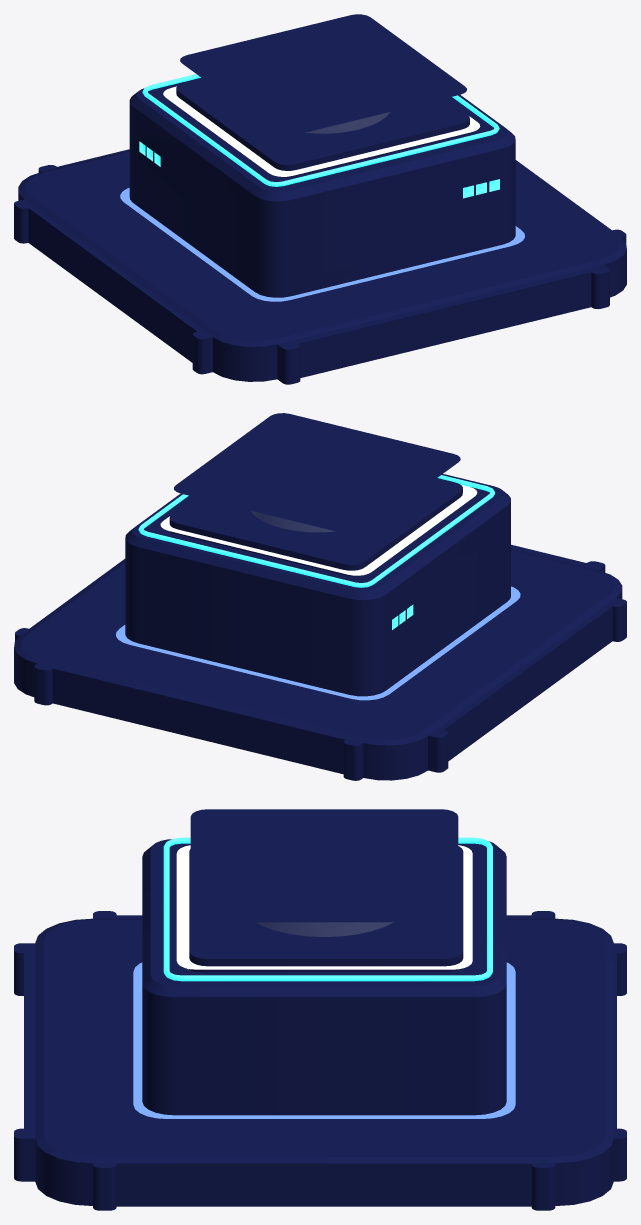
Rendered from The_mystery_cityblend30.glb.
The picture shows the model from 3 angles, top to bottom: view 1: azimuth 30°, elevation 25°; view 2: azimuth 150°, elevation 25°; view 3: azimuth 270°, elevation 25°; orthographic projection. The views are drawn at different scales.
Visible parts, largest first — view 1: Main_platform.001, Main_platform, Platform1, Cube.001, Main_platform.005, Cube.003, Plane.002, Main_platform.007, Main_platform.008, Main_platform.002; view 2: Main_platform.001, Main_platform, Platform1, Cube.002, Main_platform.005, Cube.003, Plane.002, Main_platform.008, Main_platform.007, Main_platform.002, Cube.001; view 3: Main_platform, Main_platform.001, Platform1, Cube.004, Main_platform.005, Main_platform.008, Plane.002, Main_platform.007, Cube.001, Cube.002, Main_platform.002, Cube.003.
Boxes of the visible parts, x1,y1,x2,y2 form: Main_platform.001: (129, 77, 515, 297); Main_platform: (18, 150, 626, 381); Platform1: (180, 14, 466, 135); Cube.001: (277, 265, 609, 384); Main_platform.005: (176, 78, 469, 177); Cube.003: (14, 199, 212, 374); Plane.002: (142, 74, 499, 186); Main_platform.007: (163, 86, 480, 176); Main_platform.008: (120, 188, 524, 301); Main_platform.002: (306, 112, 389, 133); Main_platform.001: (125, 474, 510, 696); Main_platform: (14, 549, 622, 780); Platform1: (174, 413, 460, 534); Cube.002: (34, 663, 363, 780); Main_platform.005: (169, 478, 462, 576); Cube.003: (428, 598, 626, 772); Plane.002: (138, 475, 494, 587); Main_platform.008: (116, 586, 520, 700); Main_platform.007: (160, 484, 477, 575); Main_platform.002: (251, 511, 333, 531); Cube.001: (511, 544, 605, 572); Main_platform: (35, 918, 613, 1205); Main_platform.001: (142, 839, 506, 1115); Platform1: (190, 809, 458, 922); Cube.004: (93, 1163, 555, 1210); Main_platform.005: (189, 846, 463, 972); Main_platform.008: (133, 962, 515, 1118); Plane.002: (163, 837, 492, 981); Main_platform.007: (176, 845, 472, 969); Cube.001: (14, 943, 35, 1181); Cube.002: (614, 943, 626, 1181); Main_platform.002: (257, 922, 392, 936); Cube.003: (93, 911, 555, 918).
Size of what is drawn, in the model's own units: 8.3 by 3.3 by 8.37.
